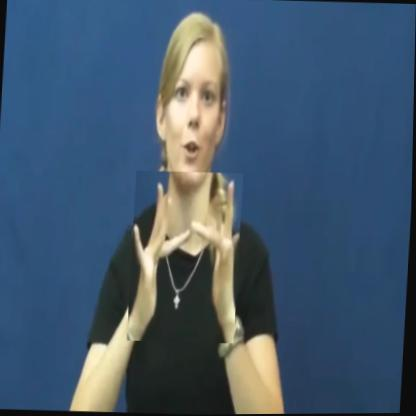Internet: (128, 171, 244, 344)
